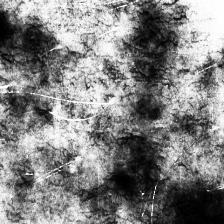Benign Marking or Mole: (109, 147, 164, 204), (176, 188, 224, 224), (0, 9, 14, 51)
